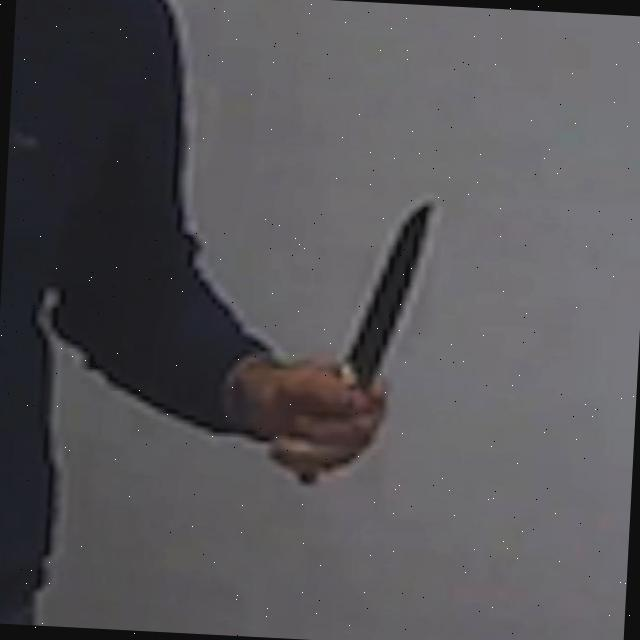suspicion: (0, 0, 457, 505), (342, 190, 444, 398)
